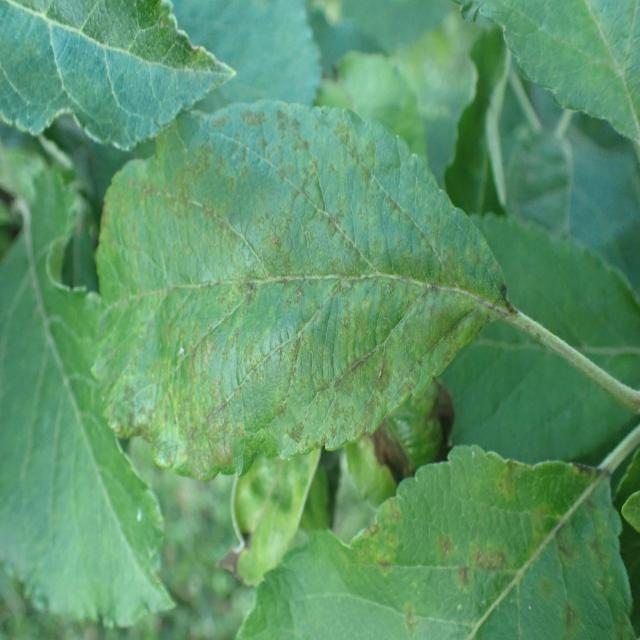scab: (107, 115, 517, 461), (347, 467, 639, 640)
